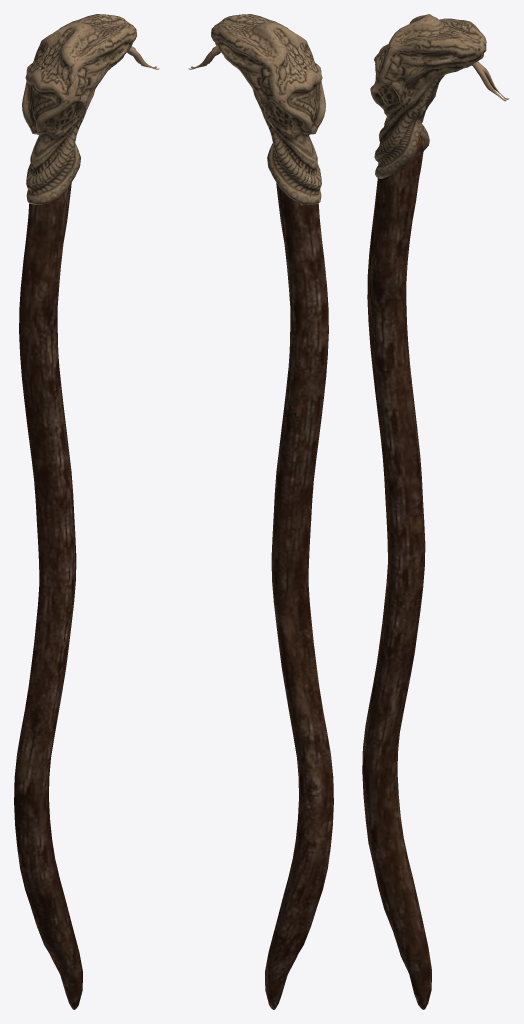
File: serpent_staff.glb
The picture shows the model from 3 angles, left to right: view 1: azimuth 30°, elevation 25°; view 2: azimuth 150°, elevation 25°; view 3: azimuth 330°, elevation 25°; orthographic projection.
Parts seen in each view (by area): view 1: serpent_staff; view 2: serpent_staff; view 3: serpent_staff.
Part boxes in pixels (x1,y1,x2,y2): serpent_staff: [14, 14, 159, 1009]; serpent_staff: [188, 14, 333, 1009]; serpent_staff: [362, 14, 509, 1009].
Size of the model in its own units: 0.2836 by 1.85 by 0.1375.
Materials: 1 (1 with a texture image).
